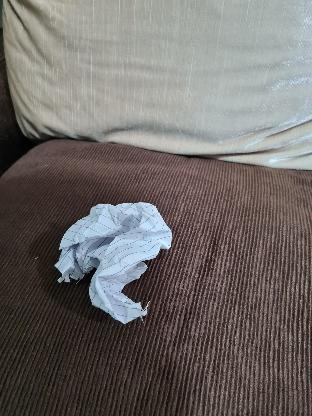Paper: (54, 198, 174, 324)
